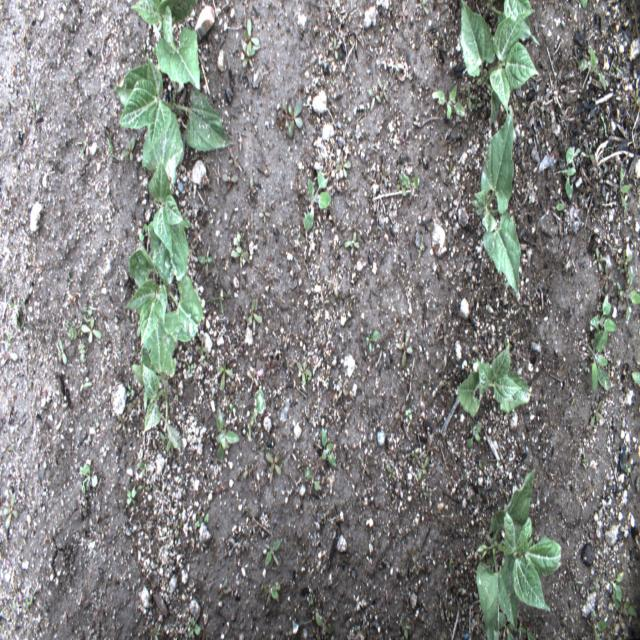crop: (116, 52, 232, 184), (476, 468, 561, 639), (460, 0, 539, 124), (471, 107, 520, 296), (124, 246, 203, 346), (132, 305, 182, 442), (129, 0, 200, 90), (457, 345, 531, 418), (147, 158, 188, 286), (479, 0, 540, 46)
weed: (584, 325, 611, 394), (304, 171, 332, 233), (589, 295, 617, 349), (67, 305, 92, 364), (215, 407, 240, 462), (577, 47, 607, 91), (431, 84, 465, 122), (275, 98, 304, 139), (554, 147, 576, 201), (314, 427, 337, 476), (248, 389, 267, 441), (612, 166, 630, 214), (394, 328, 414, 368), (626, 265, 640, 322), (242, 17, 260, 59), (240, 37, 262, 68), (2, 493, 19, 531), (80, 315, 103, 343), (263, 537, 282, 569), (160, 426, 183, 452), (207, 289, 230, 315), (315, 610, 335, 639), (79, 464, 98, 494), (497, 610, 515, 639), (588, 613, 608, 639), (266, 452, 282, 484), (611, 571, 623, 612), (343, 230, 360, 258), (106, 128, 120, 161), (334, 153, 352, 178), (367, 82, 382, 112), (198, 246, 212, 278), (217, 364, 233, 392), (296, 360, 313, 386), (121, 134, 136, 162), (467, 421, 482, 449), (184, 616, 202, 639), (231, 247, 249, 270), (247, 299, 262, 326), (305, 467, 321, 492), (376, 76, 390, 104), (590, 399, 604, 427), (592, 247, 607, 273), (173, 208, 192, 228), (246, 367, 260, 393), (395, 171, 409, 197), (417, 454, 430, 482), (567, 144, 581, 170), (365, 330, 380, 354), (56, 337, 68, 365), (264, 584, 279, 606), (603, 263, 614, 293), (0, 350, 18, 368), (217, 576, 229, 603), (336, 376, 350, 399), (134, 309, 145, 338), (128, 398, 141, 422), (629, 86, 640, 114), (619, 250, 633, 272), (396, 0, 408, 25), (393, 401, 407, 422), (359, 454, 371, 478), (115, 412, 128, 434), (258, 201, 270, 224), (252, 298, 259, 337), (222, 173, 238, 190), (329, 38, 340, 61), (316, 334, 327, 357), (437, 202, 449, 223), (416, 0, 430, 18), (439, 321, 449, 346), (301, 549, 314, 568), (195, 335, 206, 357), (139, 223, 151, 243), (477, 458, 489, 478), (466, 80, 474, 110), (20, 296, 27, 330), (504, 338, 513, 364), (265, 357, 276, 378), (445, 161, 456, 182), (384, 461, 396, 480), (404, 174, 420, 188), (201, 154, 212, 174), (328, 278, 339, 298), (472, 94, 482, 116), (10, 302, 19, 326), (174, 518, 184, 539), (400, 618, 410, 639), (499, 276, 510, 295), (623, 600, 636, 616), (137, 458, 148, 476), (125, 488, 136, 506), (241, 462, 252, 480), (138, 478, 150, 494), (443, 602, 455, 618), (407, 546, 417, 565), (214, 163, 222, 186), (416, 232, 424, 255), (225, 386, 234, 406), (227, 153, 239, 168), (381, 165, 388, 190), (24, 594, 34, 611), (79, 377, 92, 390), (262, 349, 274, 363), (191, 229, 202, 244), (199, 348, 208, 366), (188, 240, 198, 256), (248, 177, 256, 197), (320, 293, 330, 309), (518, 618, 526, 638), (231, 379, 244, 391), (488, 491, 498, 506), (448, 558, 455, 579), (419, 482, 428, 498), (271, 581, 285, 591), (76, 319, 84, 336), (172, 388, 181, 403), (617, 260, 625, 276), (236, 232, 242, 253), (600, 115, 607, 133), (126, 385, 134, 400), (632, 372, 640, 387), (617, 281, 624, 297), (527, 627, 536, 639), (372, 457, 380, 470), (194, 516, 204, 526), (274, 358, 281, 372), (228, 402, 236, 414), (308, 591, 314, 607), (404, 407, 412, 419), (579, 0, 588, 10), (504, 482, 508, 502), (187, 363, 194, 374), (203, 512, 209, 524), (310, 85, 318, 94), (625, 462, 631, 474), (582, 453, 588, 464), (323, 512, 326, 526), (514, 306, 520, 313), (584, 366, 590, 372), (468, 496, 473, 503), (265, 446, 271, 450), (522, 102, 526, 108), (468, 360, 473, 364)
